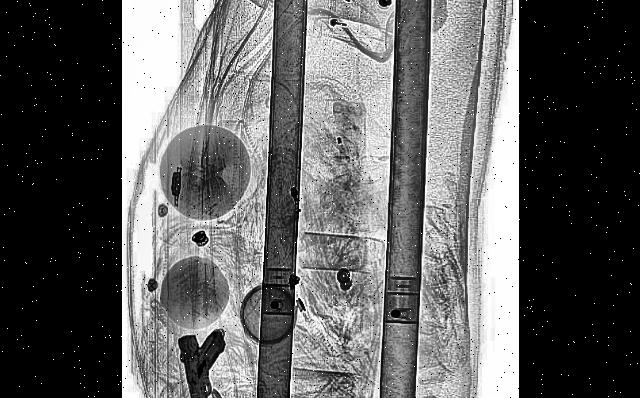Gun: (180, 320, 240, 398)
